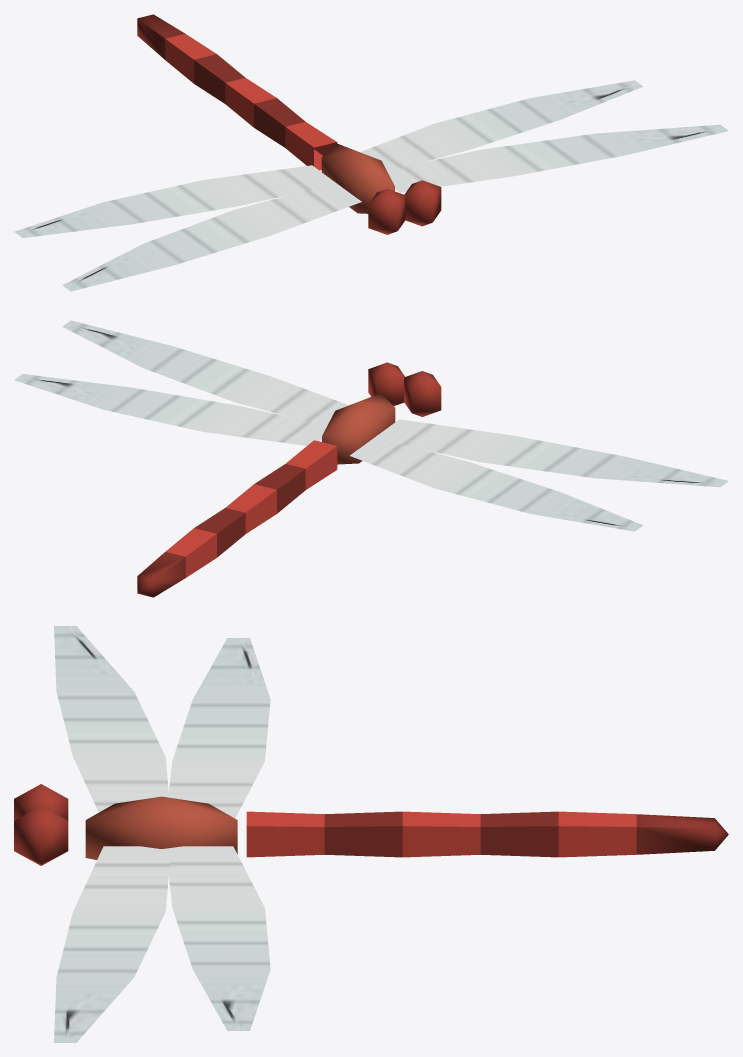
File: red-dragonfly.glb
3 views of the same model, one above another, from view 1: azimuth 30°, elevation 25°; view 2: azimuth 150°, elevation 25°; view 3: azimuth 270°, elevation 25° (orthographic). The views are drawn at different scales.
Visible parts, largest first — view 1: red-dragonfly; view 2: red-dragonfly; view 3: red-dragonfly.
Part boxes in pixels (bbox=[...]): red-dragonfly: bbox=[14, 14, 728, 291]; red-dragonfly: bbox=[14, 320, 728, 597]; red-dragonfly: bbox=[14, 626, 728, 1042].
Size of the model in its own units: 4.45 by 0.3859 by 3.23.
Materials: 2 (1 with a texture image).
